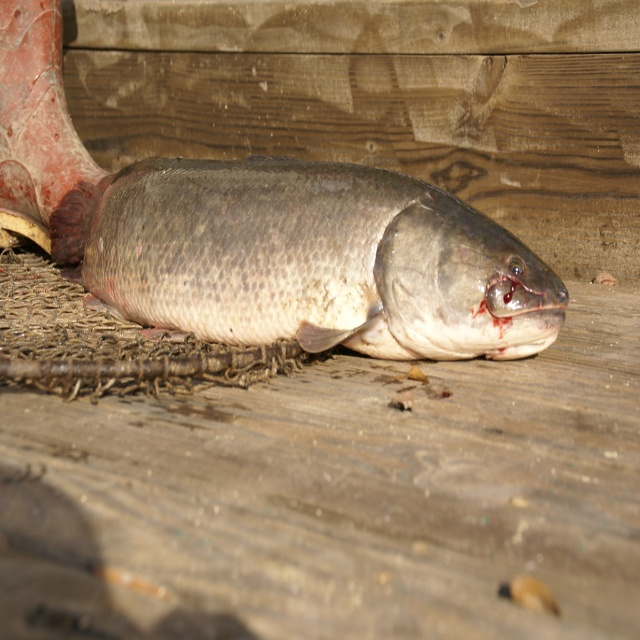Fish: (37, 123, 560, 378)
